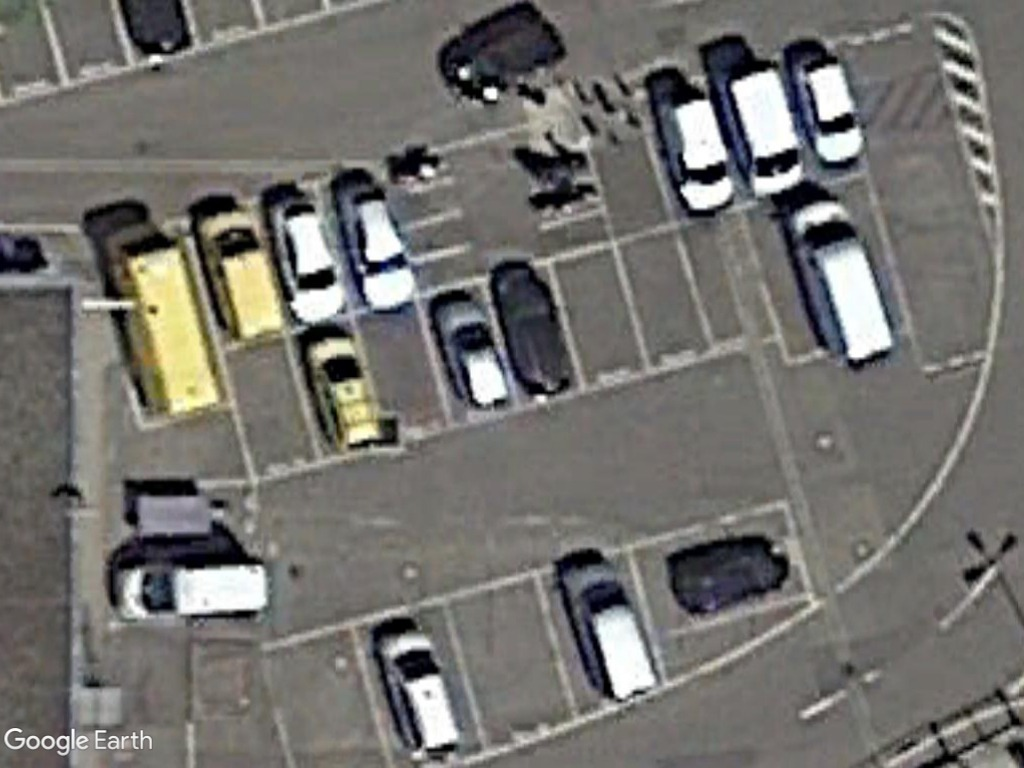car: (559, 556, 662, 705), (375, 618, 464, 762), (263, 188, 349, 326), (338, 179, 424, 314), (433, 292, 518, 413), (791, 48, 868, 168)
van: (785, 190, 899, 363), (192, 201, 294, 345), (713, 59, 808, 200), (650, 85, 737, 214)
